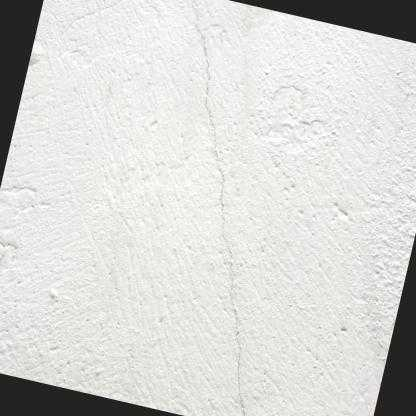crack: (188, 0, 246, 416)
